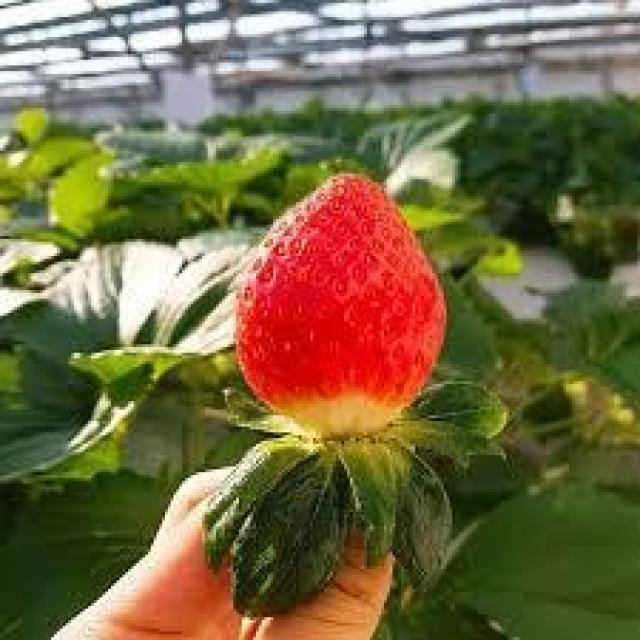mature: (235, 175, 448, 437)
